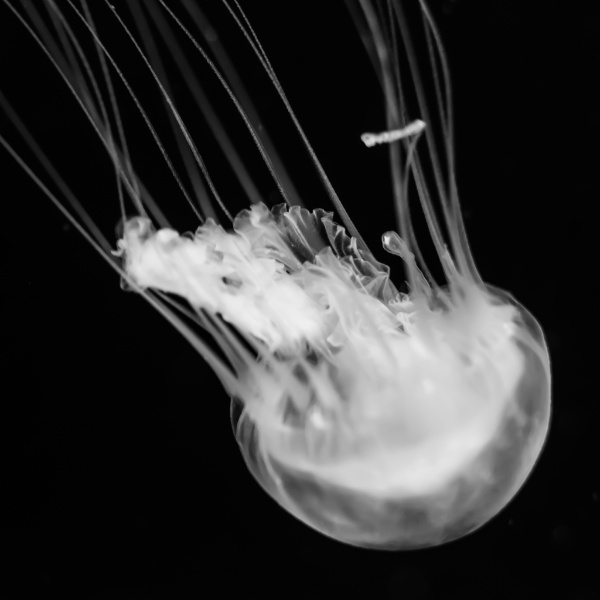Jellyfish: (0, 0, 550, 551)
